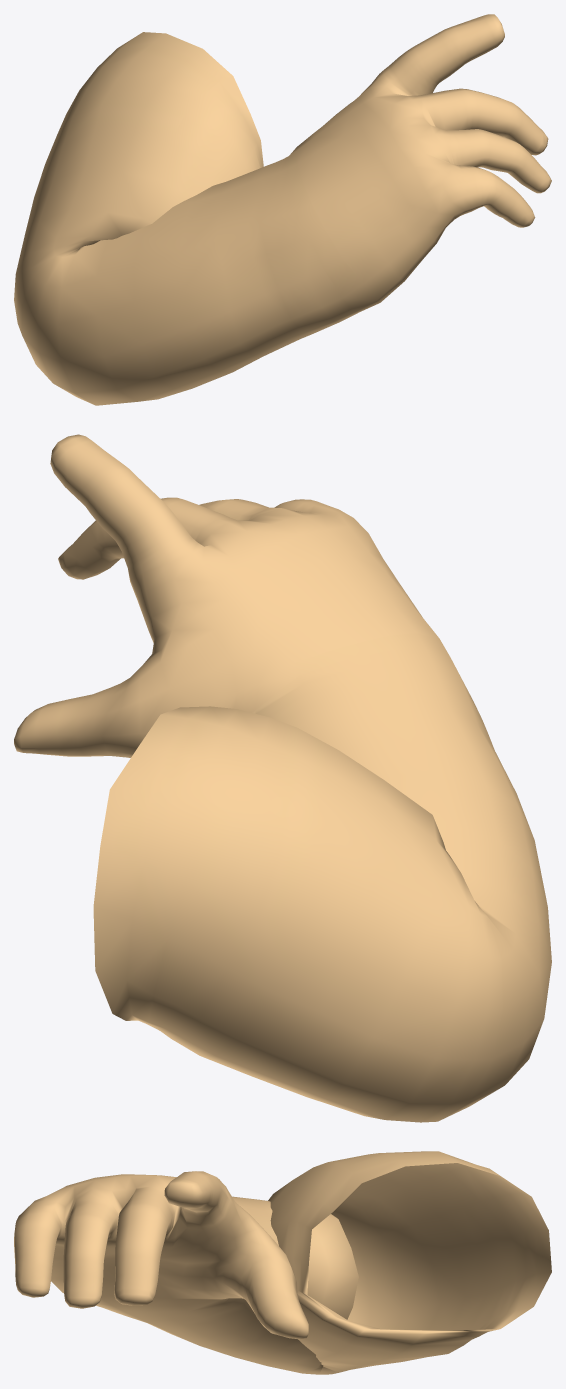
Rendered from BRAZODERECHO_RC.obj.
3 views of the same model, one above another, from view 1: azimuth 30°, elevation 25°; view 2: azimuth 150°, elevation 25°; view 3: azimuth 270°, elevation 25° (orthographic). The views are drawn at different scales.
Parts seen in each view (by area): view 1: Object_165.014; view 2: Object_165.014; view 3: Object_165.014.
Part boxes in pixels (x1,y1,x2,y2): Object_165.014: [14, 14, 551, 405]; Object_165.014: [14, 434, 551, 1122]; Object_165.014: [14, 1151, 551, 1374].
Size of the model in its own units: 0.4886 by 0.3901 by 0.5532.
Materials: 1 (1 with a texture image).
